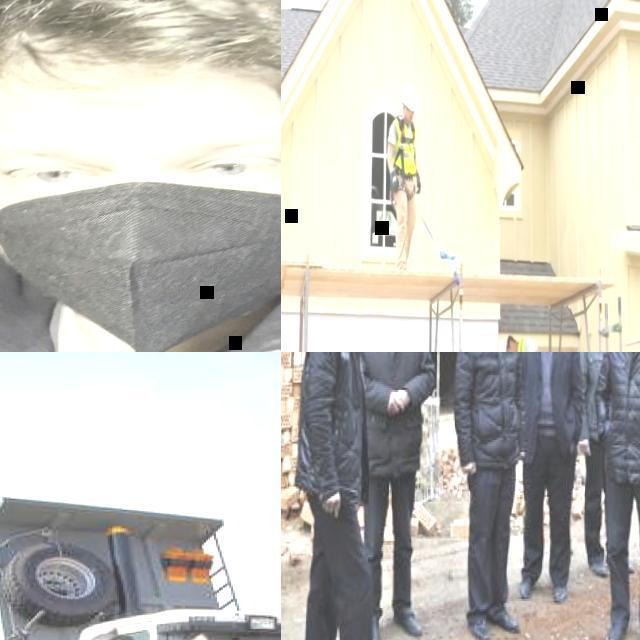helmet: (402, 85, 419, 112), (499, 334, 511, 352)
vest: (392, 117, 418, 175)
